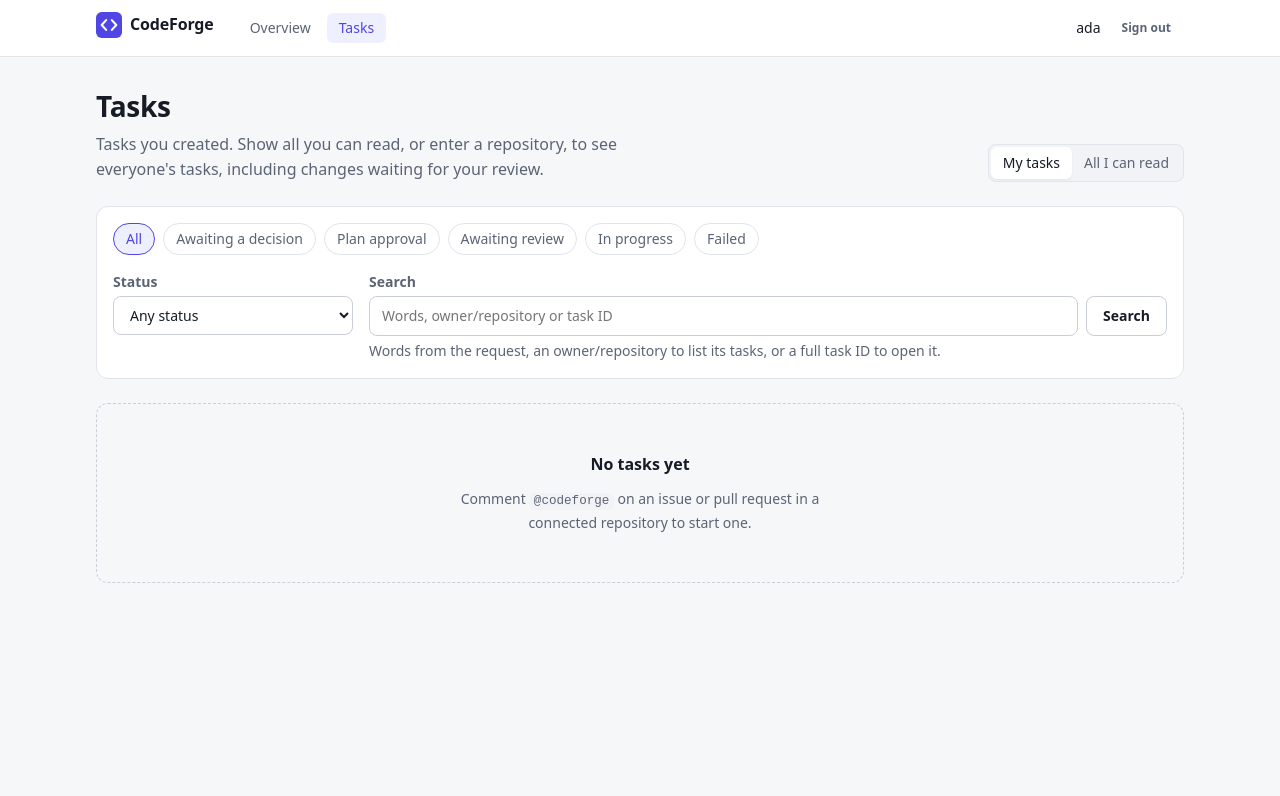
Scenario: overview › is reachable from the navigation
The image size is (1280, 796).
Click the link "Overview": (280, 28) [250,18,311,37]
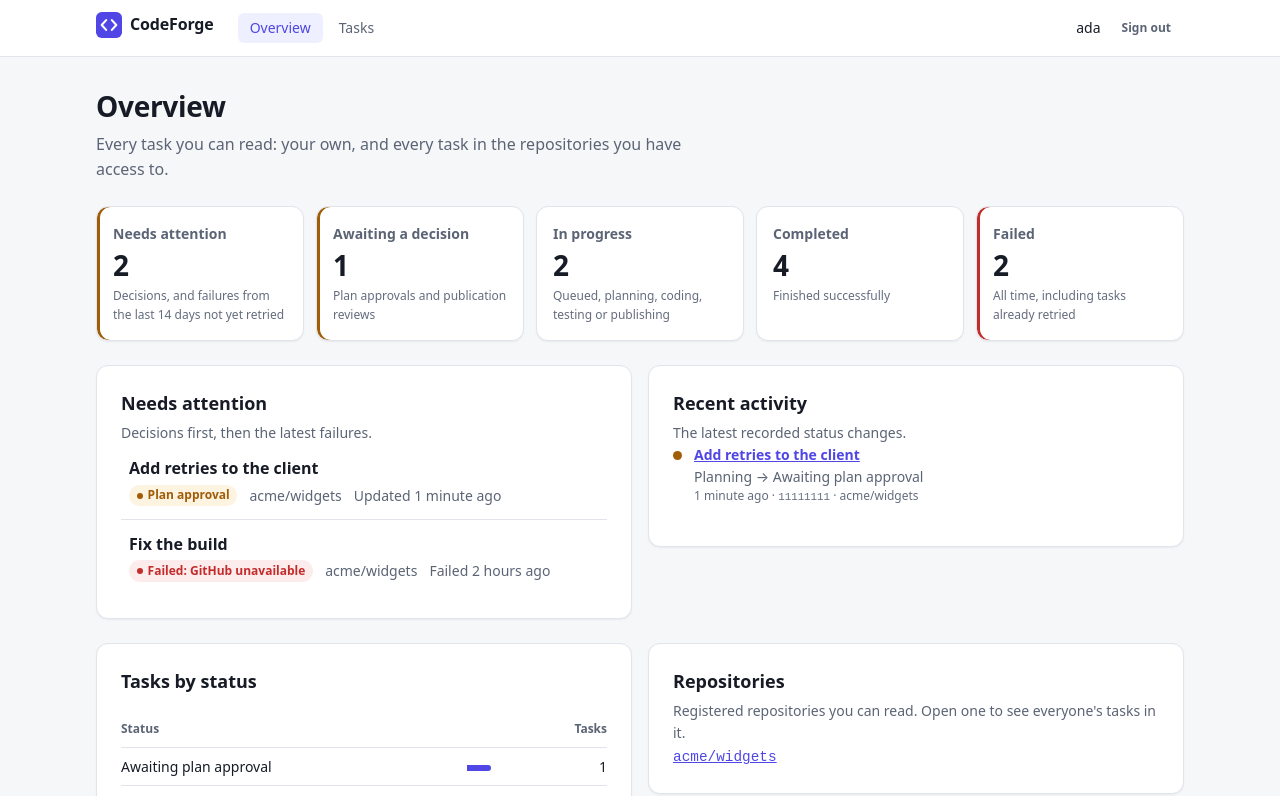
Expected: the heading "Overview" is shown, [96,87,226,125]
